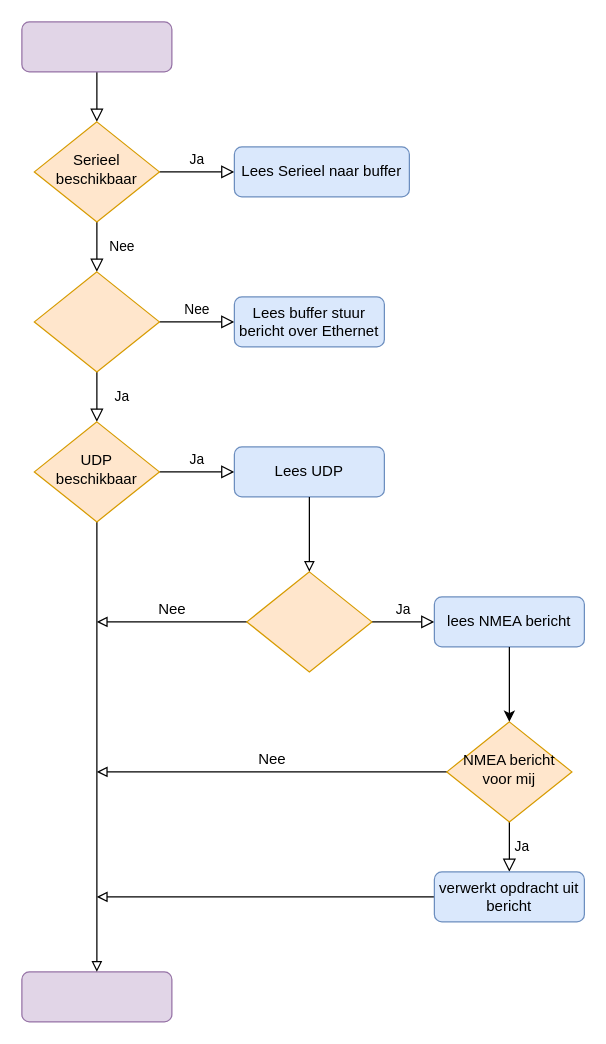
The diagram is 606 pixels wide and 1044 high, and some of its shapes have lost their labels. Here are the shapes that lost their labels. From the top down, the box of each, then its label:
(21, 21, 172, 72): begin
(33, 271, 159, 372): Buffer leeg
(246, 571, 372, 672): bericht NMEA kloppend
(21, 971, 172, 1022): Terug naar begin
